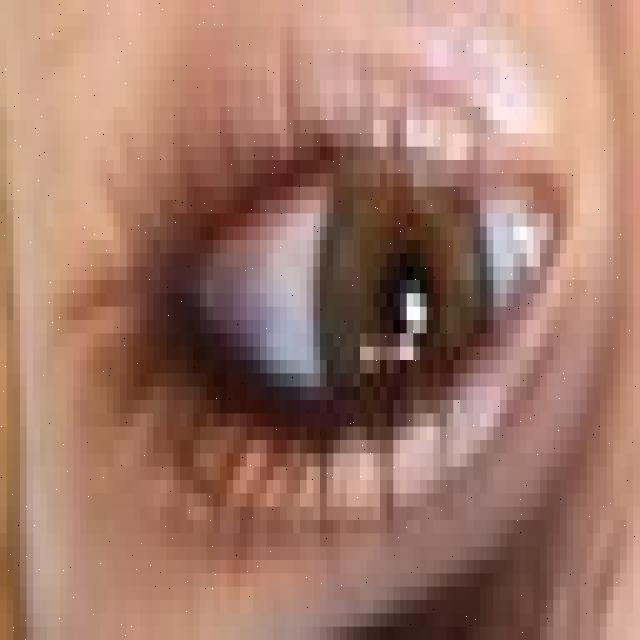Normal: (323, 150, 493, 470)
